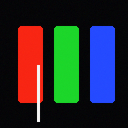4 line_v: (37, 65, 39, 121)
